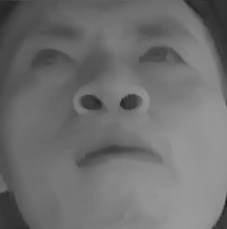eye: (134, 39, 186, 71), (27, 42, 77, 75)
mouth: (71, 128, 165, 177)
